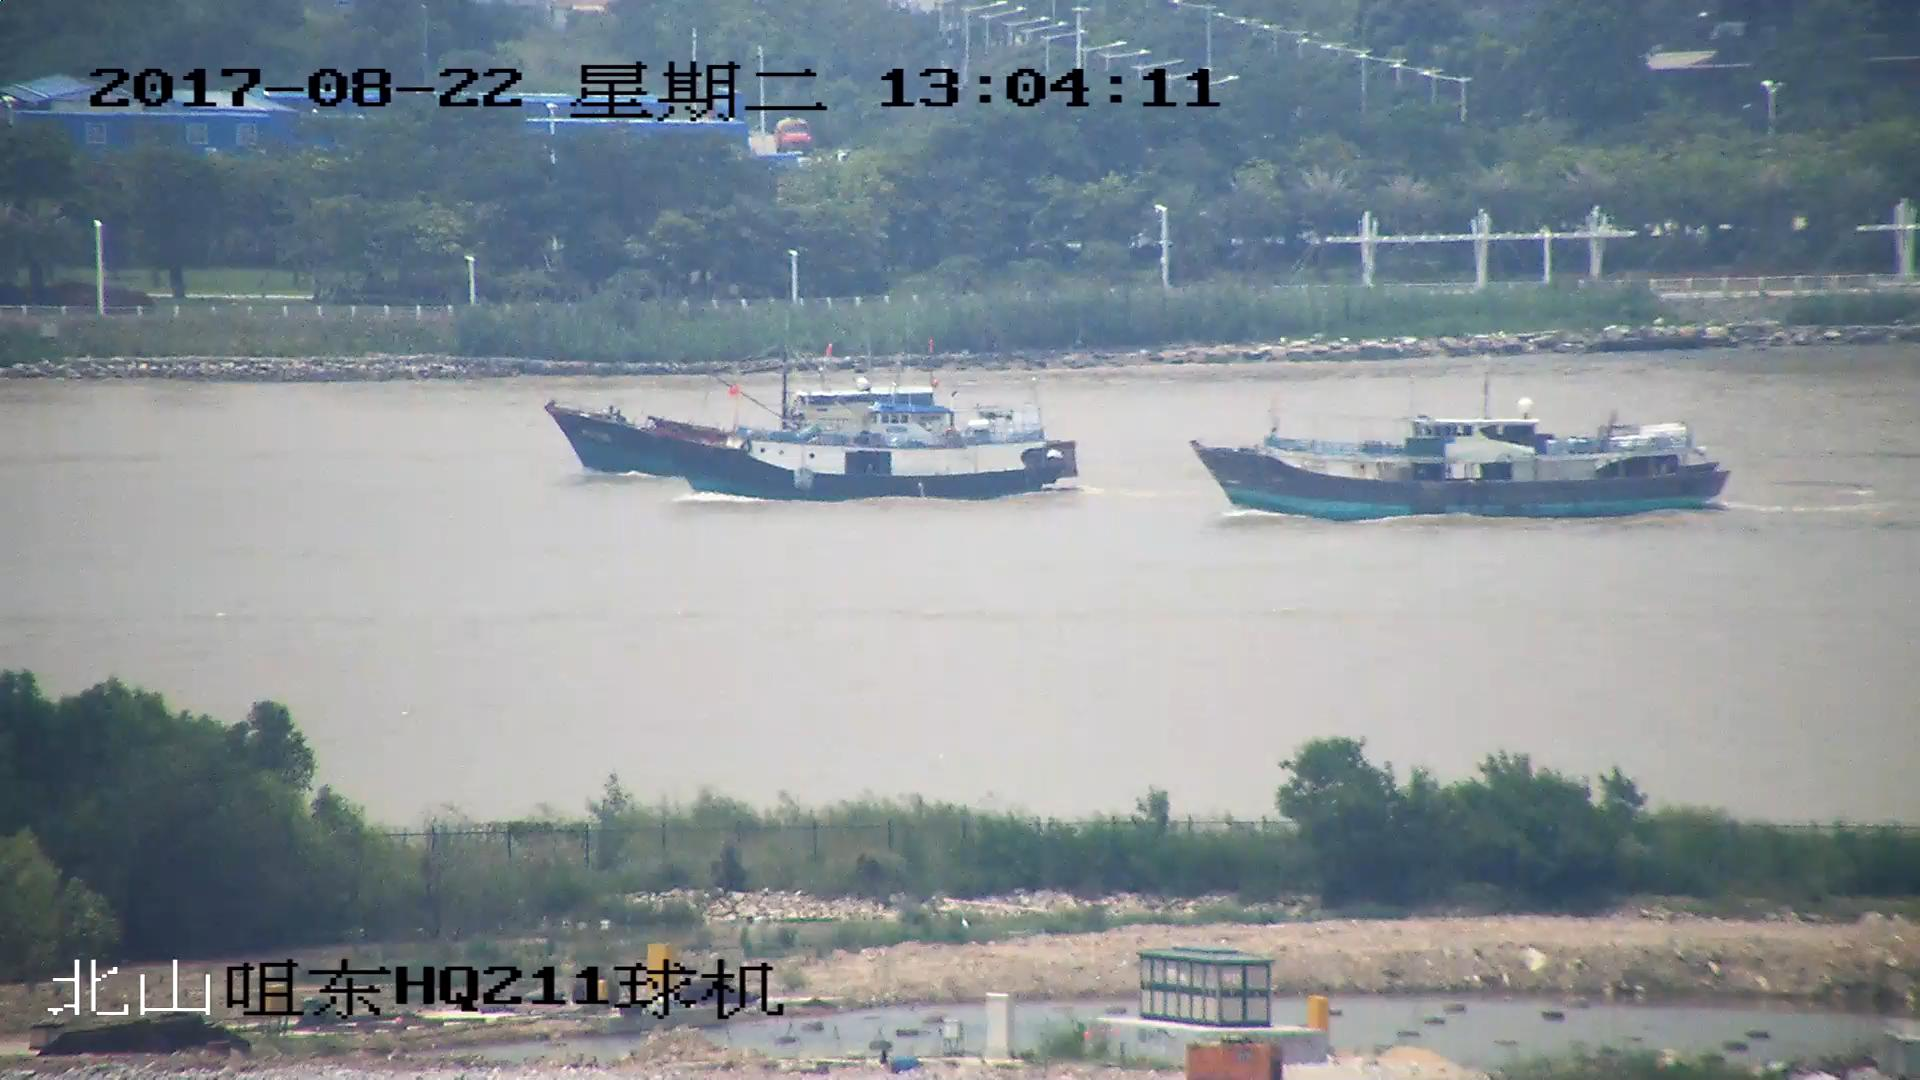fishing boat: (1191, 401, 1725, 524), (550, 382, 972, 486), (659, 399, 1074, 497)
